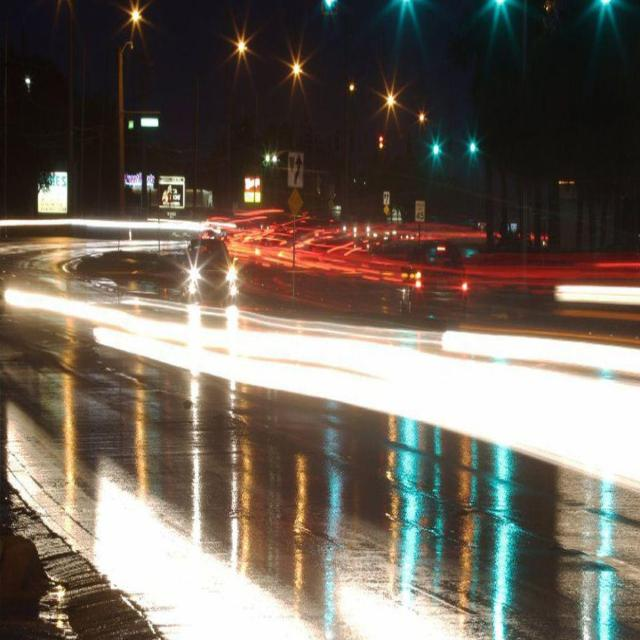other: (241, 175, 432, 293), (175, 254, 267, 360)
